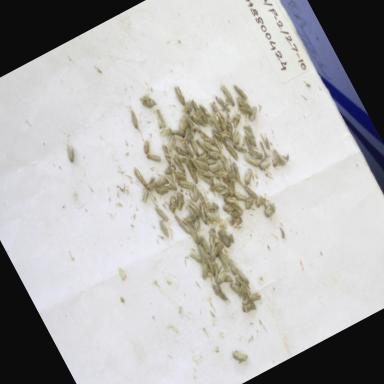pbw: (58, 136, 85, 168), (134, 84, 160, 116), (216, 76, 240, 110), (154, 137, 178, 169), (192, 236, 214, 270), (121, 102, 145, 132), (150, 100, 172, 132), (230, 136, 256, 163), (209, 281, 233, 310), (215, 222, 238, 252), (134, 134, 160, 160), (166, 82, 190, 110), (201, 254, 224, 282), (194, 202, 216, 231), (233, 262, 255, 290), (244, 137, 268, 162), (264, 146, 287, 172), (225, 106, 248, 132), (134, 182, 157, 208), (170, 151, 192, 178), (228, 200, 250, 226), (192, 260, 214, 286), (227, 162, 249, 188), (184, 181, 206, 207), (130, 163, 150, 191), (207, 130, 227, 158), (229, 344, 252, 368), (231, 282, 254, 306), (162, 194, 183, 220), (242, 102, 264, 126), (236, 96, 258, 120), (186, 244, 208, 268), (238, 294, 260, 318), (206, 240, 228, 264), (200, 226, 222, 250), (173, 213, 194, 238), (180, 138, 200, 164), (212, 90, 232, 116), (154, 216, 174, 242), (261, 200, 282, 224), (222, 139, 242, 164), (223, 254, 243, 279), (172, 192, 192, 217), (207, 98, 226, 124), (250, 190, 272, 212), (211, 166, 233, 188), (203, 195, 224, 218), (238, 164, 258, 188), (258, 132, 278, 156), (212, 266, 232, 290), (161, 172, 181, 196), (196, 124, 216, 148), (144, 148, 165, 170), (222, 176, 242, 199), (153, 202, 172, 226), (222, 190, 242, 212), (176, 211, 198, 231), (166, 122, 186, 144), (217, 199, 237, 221), (194, 232, 213, 255), (242, 134, 260, 158), (186, 166, 204, 190), (215, 252, 233, 276), (242, 123, 260, 147), (196, 100, 214, 124), (227, 212, 247, 233), (204, 206, 224, 227), (243, 150, 262, 172), (172, 140, 191, 162), (194, 134, 213, 156), (180, 98, 199, 120), (164, 162, 182, 185), (188, 97, 206, 120), (234, 272, 252, 295), (231, 79, 249, 102), (254, 154, 274, 174), (226, 127, 246, 147), (226, 282, 246, 302), (182, 154, 200, 176), (220, 120, 238, 142), (187, 212, 205, 234), (187, 135, 204, 158), (152, 180, 172, 199), (142, 174, 161, 194), (202, 136, 220, 157), (243, 182, 260, 204), (210, 114, 226, 137), (194, 154, 212, 174), (206, 146, 224, 166), (214, 182, 234, 200), (176, 115, 194, 135), (164, 134, 182, 154), (242, 194, 260, 213), (173, 150, 192, 168), (246, 289, 264, 308), (272, 145, 288, 166), (177, 176, 195, 194), (198, 163, 216, 181), (200, 172, 217, 191), (192, 112, 208, 132), (234, 188, 250, 207), (206, 158, 222, 176), (156, 124, 174, 140), (220, 274, 237, 290), (187, 199, 201, 218), (216, 126, 232, 142), (216, 115, 230, 133), (196, 189, 210, 207), (152, 173, 168, 188), (175, 169, 189, 184), (211, 181, 226, 195), (184, 127, 199, 141)
